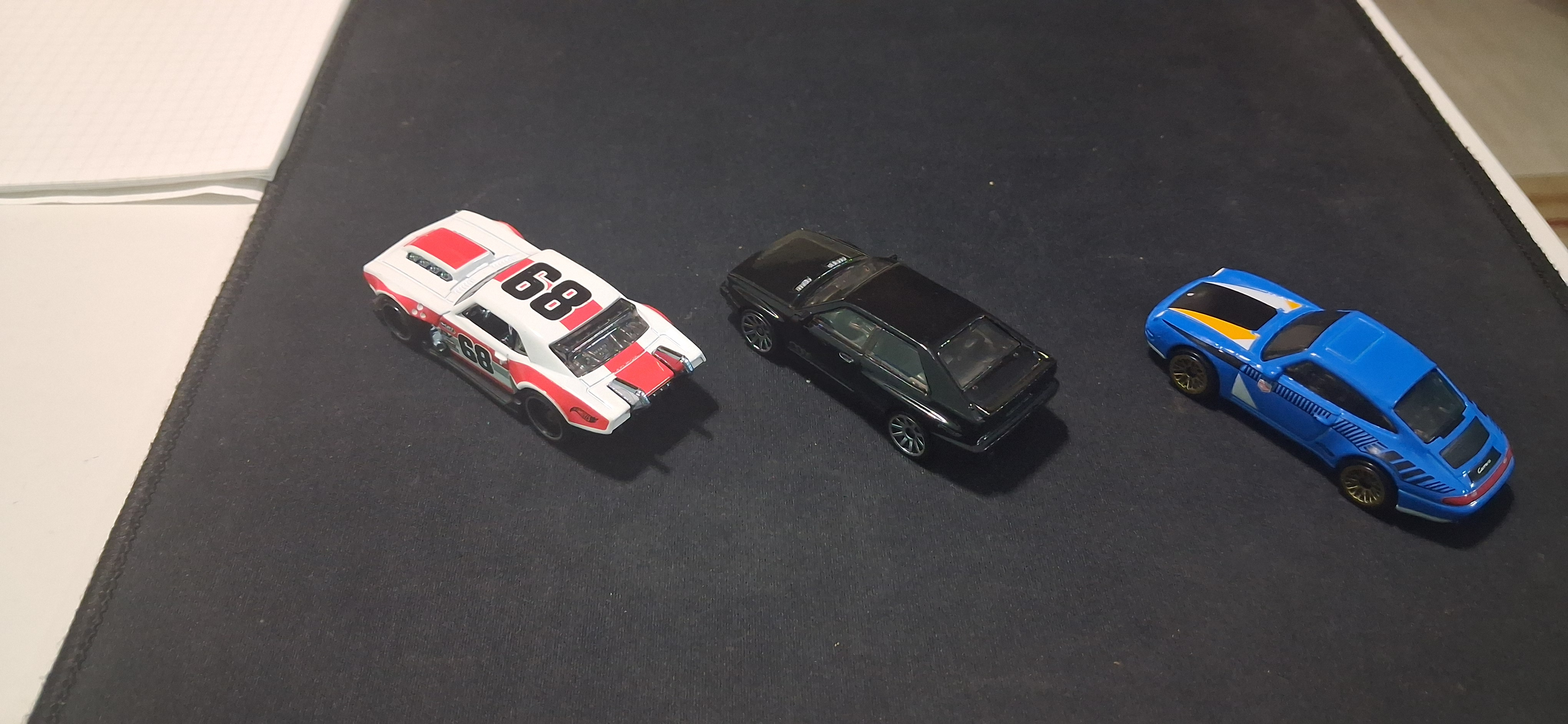Audi_Quattro: (706, 125, 1075, 486)
Camaro: (324, 169, 713, 512)
Porsche_Carrera: (1112, 159, 1527, 568)
